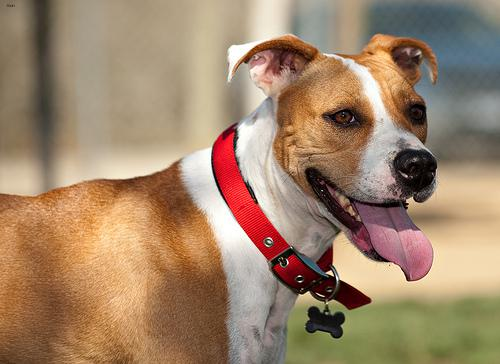dog-staffordshire_bull_terrier: (226, 24, 437, 279)
